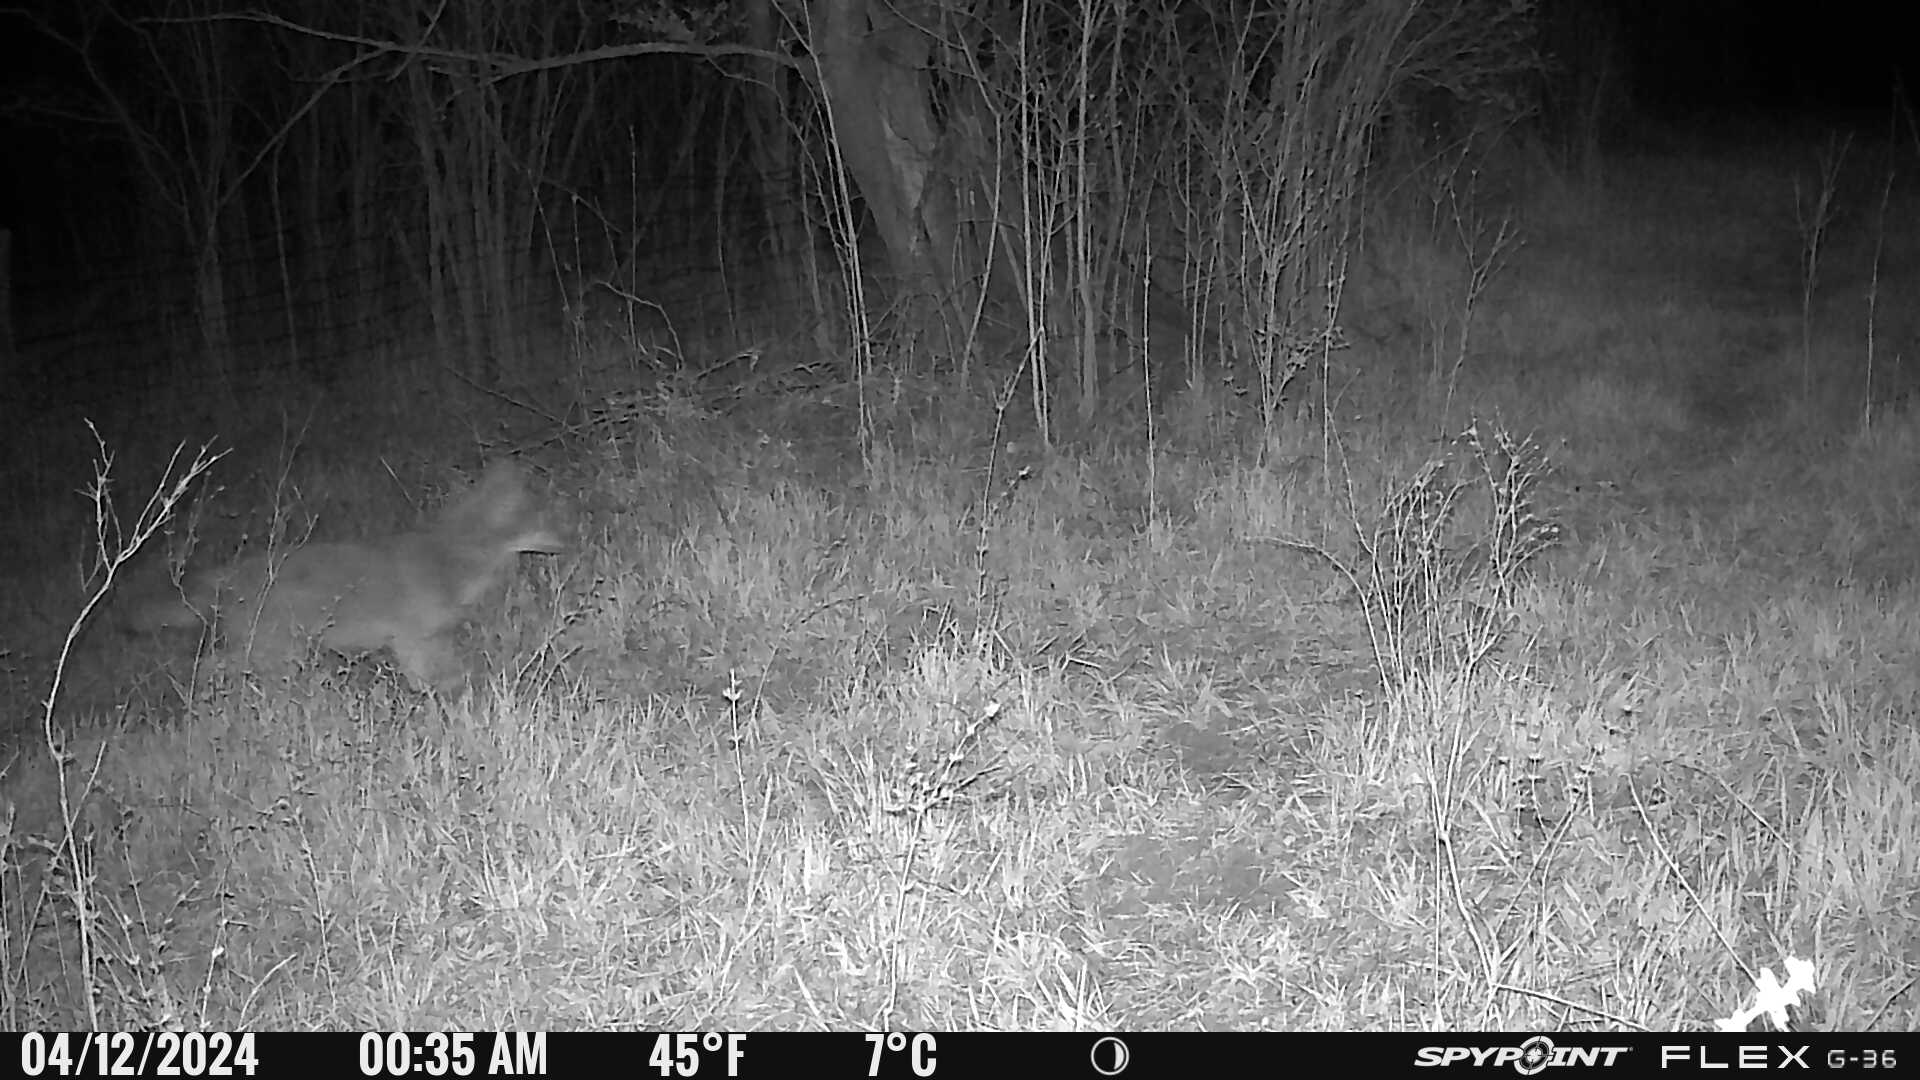Coyote: (107, 455, 571, 691)
